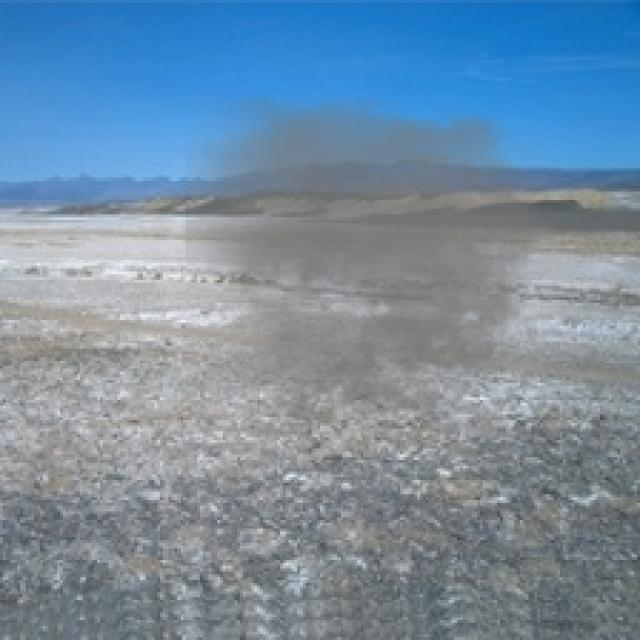Smoke: (186, 94, 568, 437)
